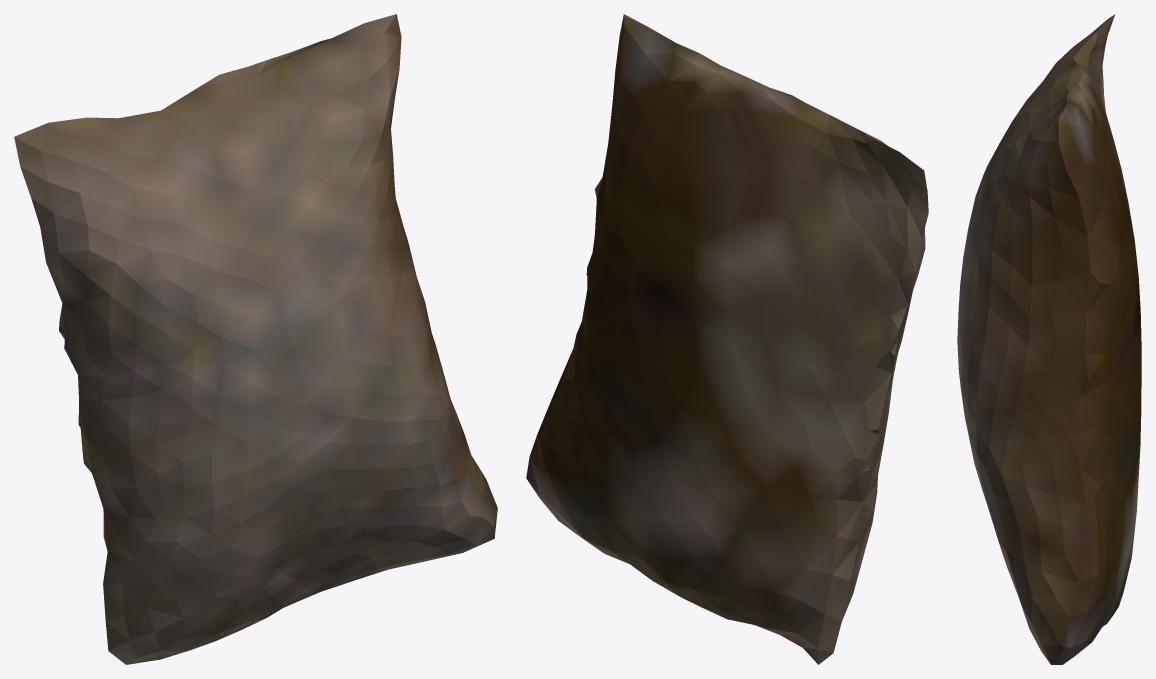
The model's file is pellets-sack2.dae.
3 views of the same model, side by side, from view 1: azimuth 30°, elevation 25°; view 2: azimuth 150°, elevation 25°; view 3: azimuth 270°, elevation 25° (orthographic). The views are drawn at different scales.
Parts seen in each view (by area): view 1: node; view 2: node; view 3: node.
Part boxes in pixels (<box>): node: <box>14,14,497,664</box>; node: <box>526,14,928,664</box>; node: <box>957,14,1141,664</box>.
Size of the model in its own units: 0.7651 by 0.9892 by 0.29.
